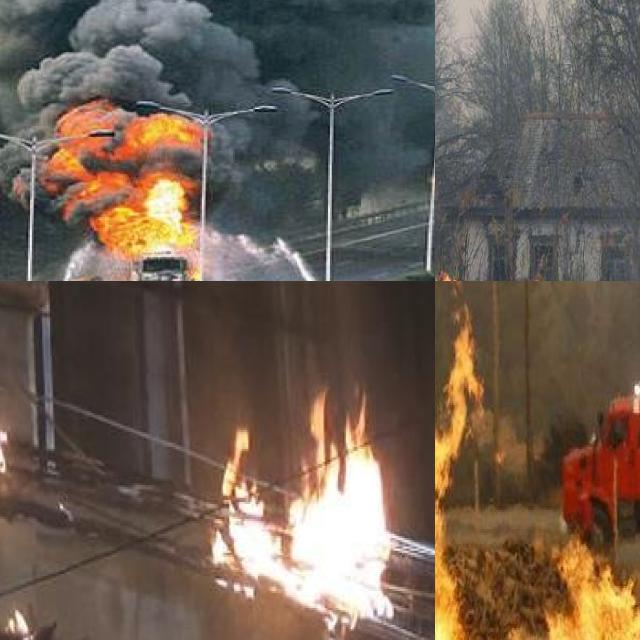fire: (435, 336, 640, 640), (203, 402, 394, 640), (46, 99, 203, 281), (0, 394, 14, 517)
smoke: (0, 0, 435, 96)
